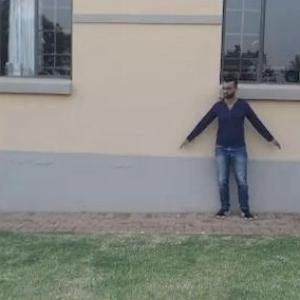land: (182, 77, 282, 230)
